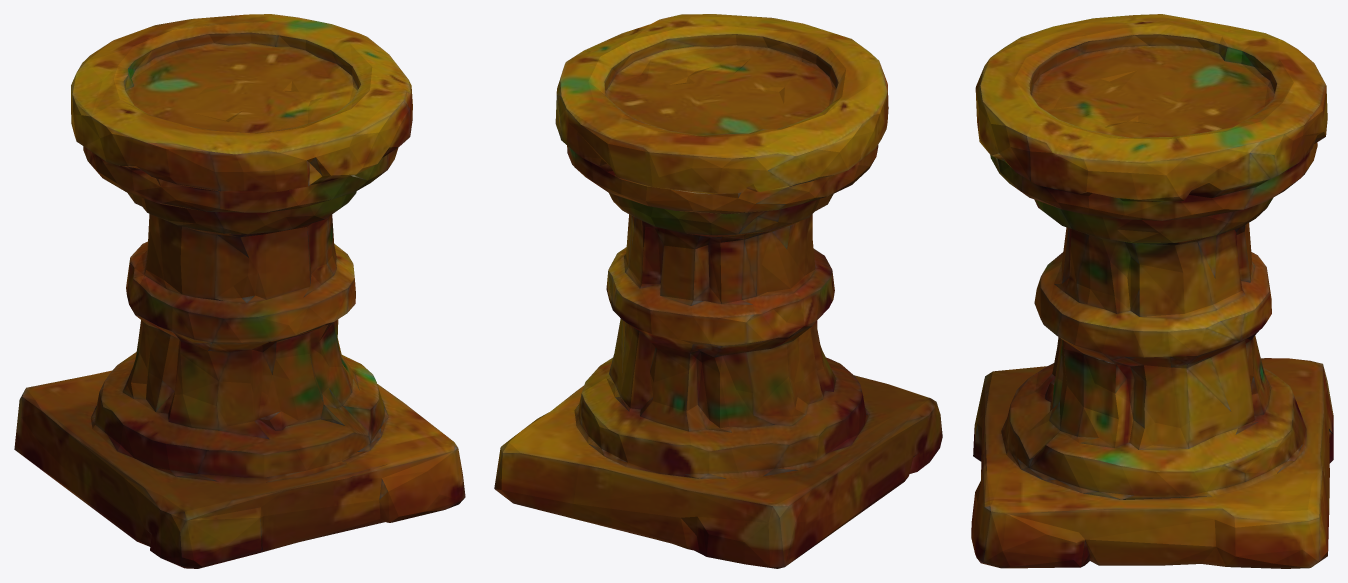
Rendered from pedestal.glb.
3 renders of one model, left to right at view 1: azimuth 30°, elevation 25°; view 2: azimuth 150°, elevation 25°; view 3: azimuth 270°, elevation 25°, orthographic. The views are drawn at different scales.
Parts seen in each view (by area): view 1: tripo_node_14c68fe1-3284-49a6-965a-d3f0a38ff654.001; view 2: tripo_node_14c68fe1-3284-49a6-965a-d3f0a38ff654.001; view 3: tripo_node_14c68fe1-3284-49a6-965a-d3f0a38ff654.001.
Part boxes in pixels (left/top/right/bottom): tripo_node_14c68fe1-3284-49a6-965a-d3f0a38ff654.001: left=14, top=14, right=465, bottom=568; tripo_node_14c68fe1-3284-49a6-965a-d3f0a38ff654.001: left=494, top=14, right=942, bottom=568; tripo_node_14c68fe1-3284-49a6-965a-d3f0a38ff654.001: left=971, top=14, right=1333, bottom=568.
Size of the model in its own units: 0.787 by 1 by 0.7877.
Materials: 1 (1 with a texture image).
